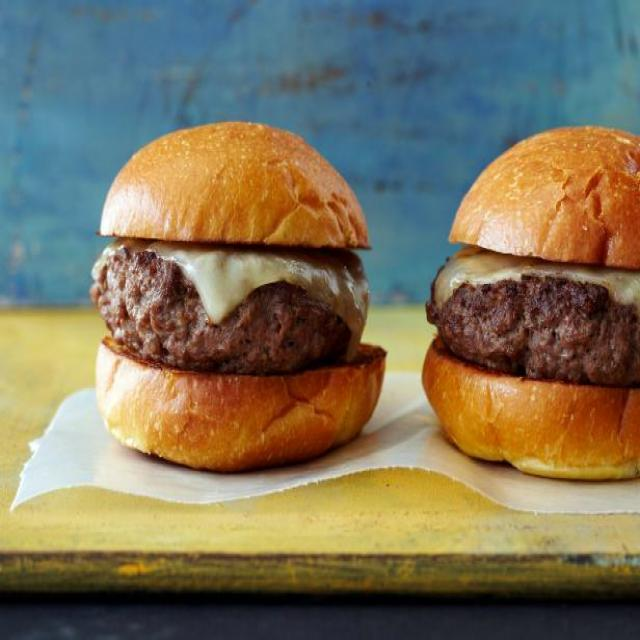burger: (94, 120, 388, 476), (420, 124, 640, 486)
